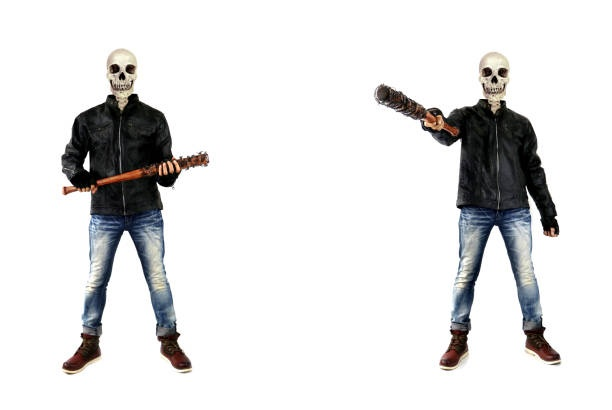bita: (53, 144, 213, 197), (371, 80, 462, 138)
